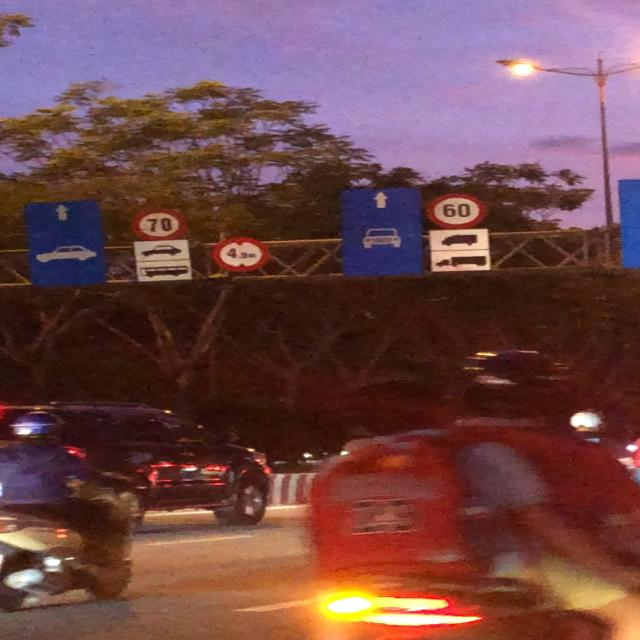Bien bao han che chieu cao: (213, 234, 273, 276)
Bien bao toc do toi da cho phep: (421, 191, 494, 231), (125, 204, 196, 241)
